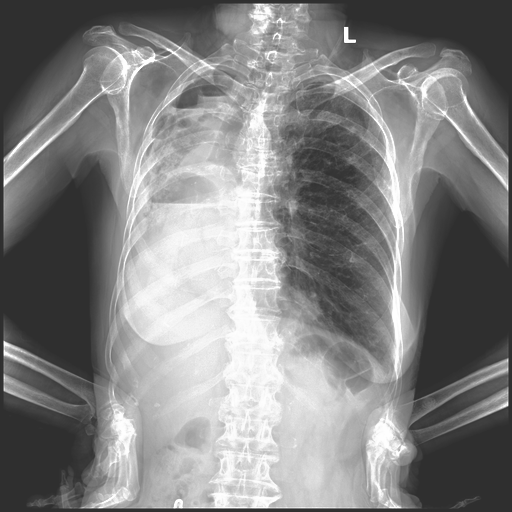Aortic enlargement: (133, 64, 246, 234)
Atelectasis: (175, 57, 235, 107), (155, 172, 223, 199)
Calcification: (129, 136, 157, 217), (296, 70, 363, 97), (376, 355, 399, 381)
Cardiomegaly: (313, 98, 396, 358)
Other lesion: (155, 172, 223, 199)
Pleural effusion: (127, 200, 243, 342), (376, 355, 399, 381)
Pleural thickening: (133, 64, 246, 234)
Pneumothorax: (148, 75, 216, 150), (339, 120, 385, 223)
